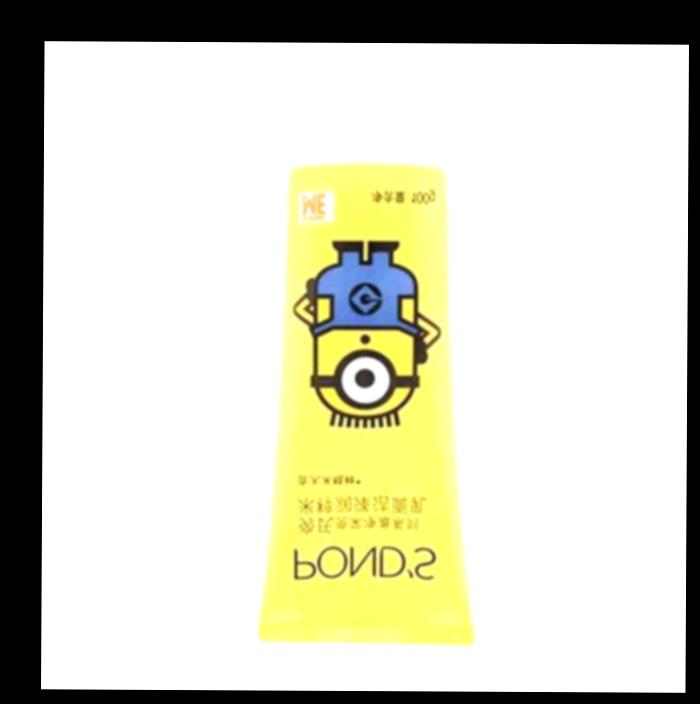cosmetic: (252, 68, 483, 643)
